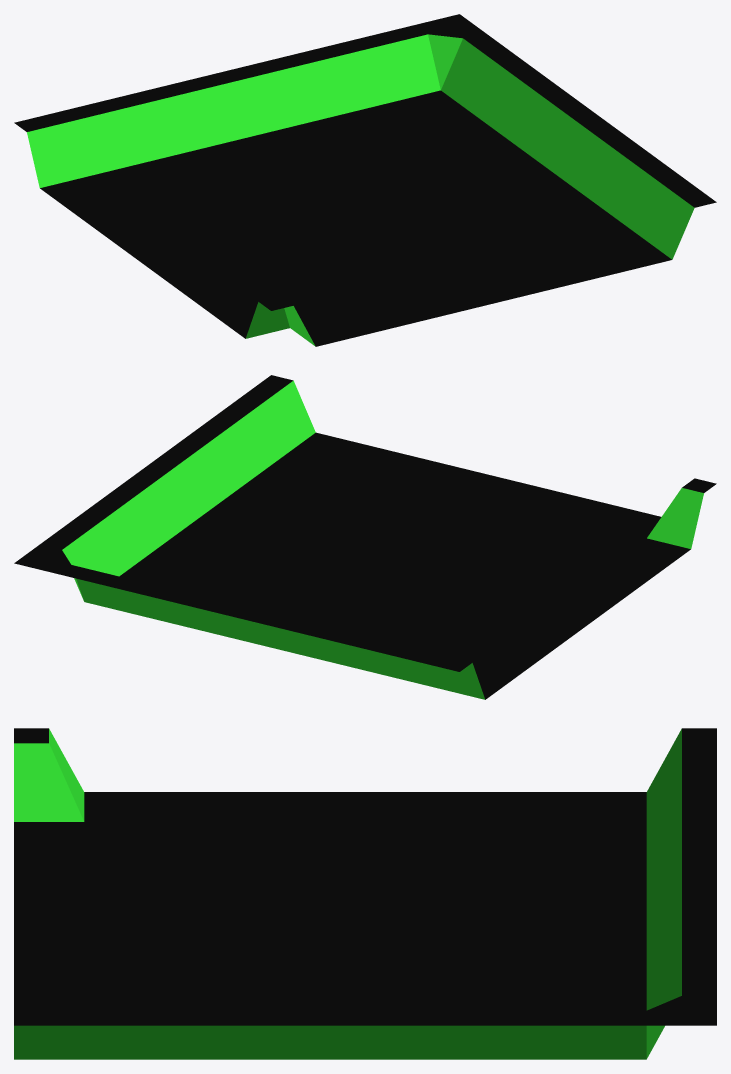
Rendered from path_corner.fbx.
The picture shows the model from 3 angles, top to bottom: view 1: azimuth 30°, elevation 25°; view 2: azimuth 150°, elevation 25°; view 3: azimuth 270°, elevation 25°; orthographic projection. The views are drawn at different scales.
Parts seen in each view (by area): view 1: Plane; view 2: Plane; view 3: Plane.
Boxes of the visible parts, x1,y1,x2,y2 form: Plane: (14,14,716,346); Plane: (14,375,716,699); Plane: (14,728,716,1059).
Size of the model in its own units: 1000 by 100 by 1000.
1 material, 1 textured.
